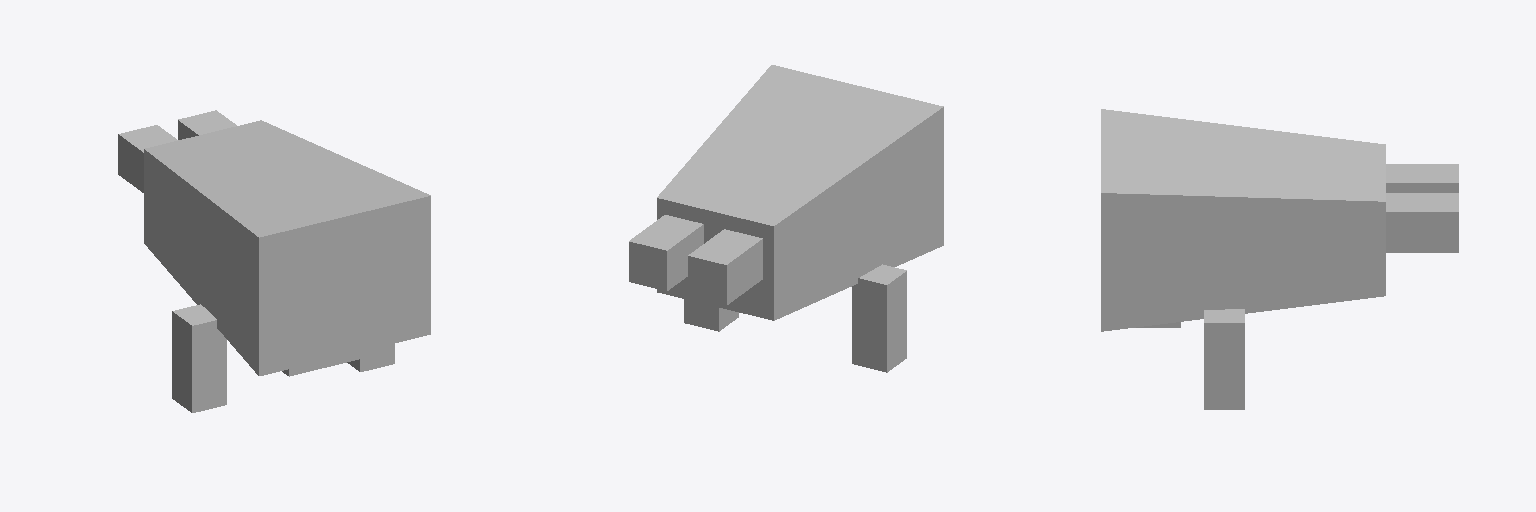
File: Mech.obj
3 views of the same model, side by side, from view 1: azimuth 30°, elevation 25°; view 2: azimuth 150°, elevation 25°; view 3: azimuth 270°, elevation 25° (orthographic).
Visible parts, largest first — view 1: Cube.005, Cube.006, Cube.003, Cube.004, Cube.002, Cube.001; view 2: Cube.005, Cube.006, Cube.003, Cube.004, Cube.001; view 3: Cube.005, Cube.004, Cube.001, Cube.003.
Part boxes in pixels (left/top/right/bottom): Cube.005: left=144, top=120, right=430, bottom=375; Cube.006: left=172, top=304, right=226, bottom=412; Cube.003: left=118, top=125, right=177, bottom=192; Cube.004: left=178, top=110, right=236, bottom=139; Cube.002: left=282, top=344, right=392, bottom=376; Cube.001: left=347, top=344, right=394, bottom=371; Cube.005: left=657, top=65, right=943, bottom=320; Cube.006: left=852, top=264, right=906, bottom=372; Cube.003: left=688, top=229, right=762, bottom=305; Cube.004: left=629, top=215, right=703, bottom=290; Cube.001: left=684, top=299, right=738, bottom=331; Cube.005: left=1101, top=109, right=1385, bottom=331; Cube.004: left=1386, top=193, right=1458, bottom=252; Cube.001: left=1204, top=309, right=1244, bottom=409; Cube.003: left=1386, top=164, right=1458, bottom=192.
Size of the model in its own units: 1.3 by 1.29 by 1.99.